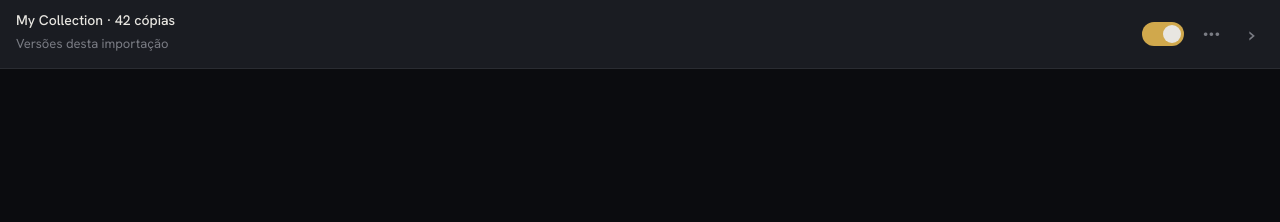
Test: CsvSourceRow › a new version of an import (r6-update-import-a-phone) › the menu lists Renomear, Enviar nova versão, a separator and Excluir in that order
Click the button "•••" at (1212, 34), box [1196,18,1228,50]
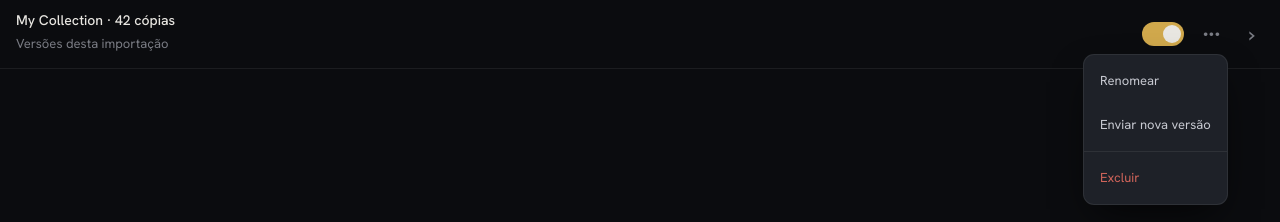
Check: the menu items read "Renomear", "Enviar nova versão", "Excluir", in this order, box [1100,72,1159,89]; [1100,116,1211,133]; [1100,169,1140,186]
